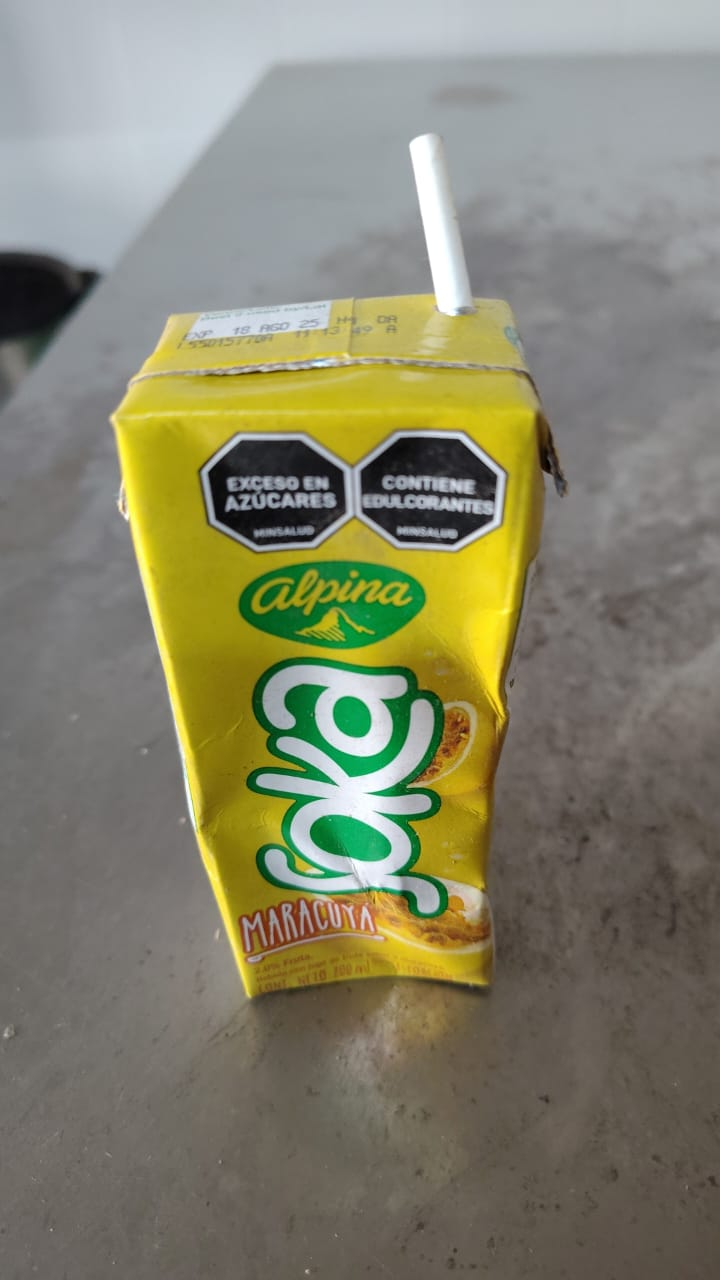Carton: (111, 305, 546, 1000)
